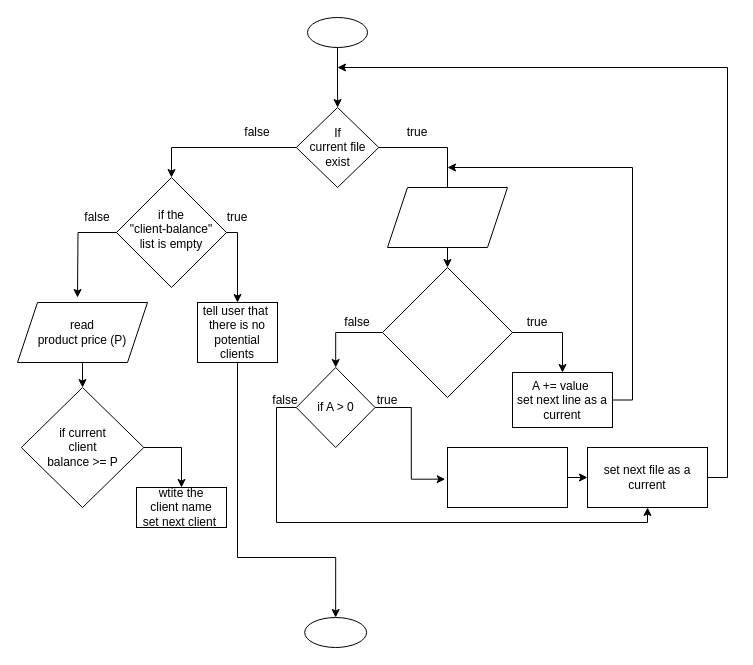
Image size: 753x665. Some labels were removed from this diagram. Each missing label, with the box of its shape:
Adding client and his balance to the list seting A to 0: (446, 446, 568, 508)
finsh: (304, 616, 367, 648)
if current line isn't empty AND value is numeric: (382, 266, 512, 398)
read current line: (386, 186, 508, 248)
start: (306, 16, 368, 48)
